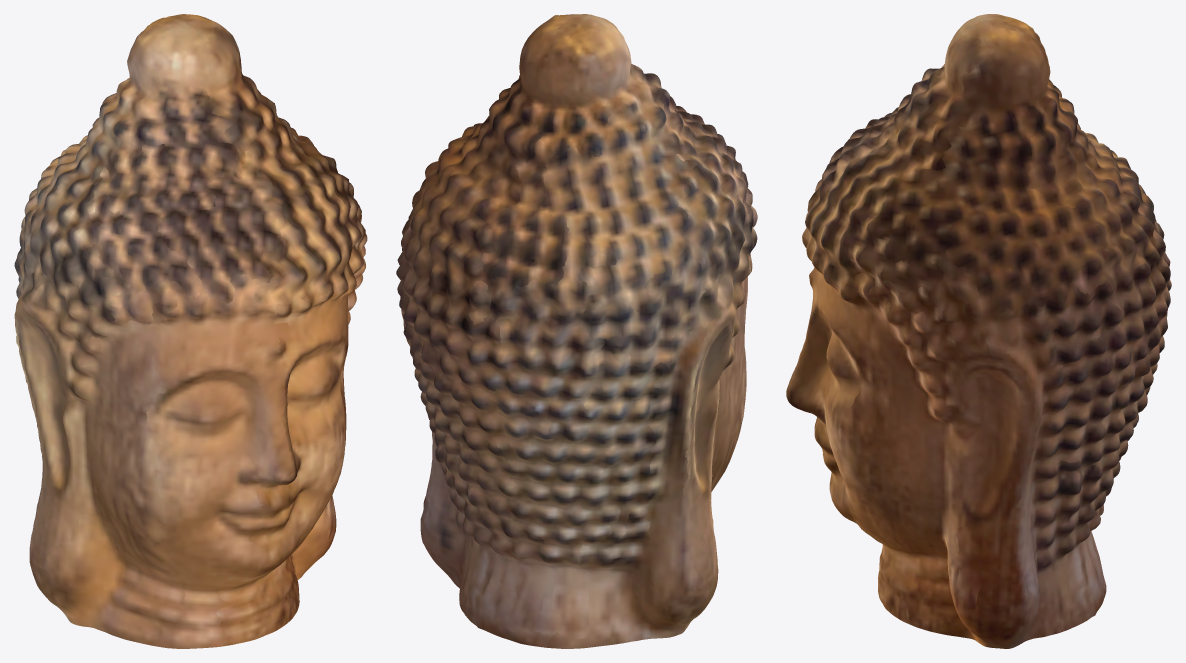
The model's file is wooden_buddha_statue_head.glb.
3 views of the same model, side by side, from view 1: azimuth 30°, elevation 25°; view 2: azimuth 150°, elevation 25°; view 3: azimuth 270°, elevation 25° (orthographic). The views are drawn at different scales.
Visible parts, largest first — view 1: Object_2, Object_3; view 2: Object_2, Object_3; view 3: Object_2, Object_3.
Part boxes in pixels (left/top/right/bottom): Object_2: left=14, top=14, right=367, bottom=648; Object_3: left=14, top=135, right=336, bottom=646; Object_2: left=396, top=14, right=757, bottom=648; Object_3: left=420, top=106, right=732, bottom=632; Object_2: left=786, top=14, right=1171, bottom=648; Object_3: left=808, top=110, right=1171, bottom=648.
Bounding box in the file's own units: 0.178 × 0.3181 × 0.1947.
Materials: 1 (1 with a texture image).
